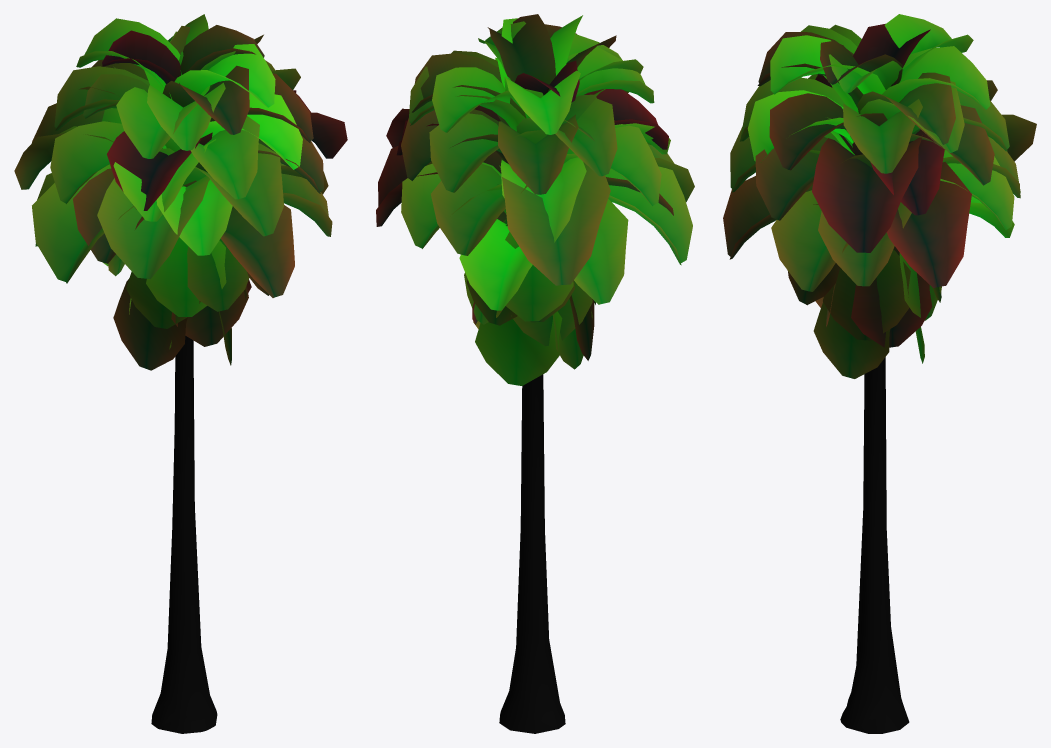
The model's file is palm_ns4_lo.glb.
The picture shows the model from 3 angles, left to right: view 1: azimuth 30°, elevation 25°; view 2: azimuth 150°, elevation 25°; view 3: azimuth 270°, elevation 25°; orthographic projection.
Parts seen in each view (by area): view 1: Tree_1; view 2: Tree_1; view 3: Tree_1.
Boxes of the visible parts, x1,y1,x2,y2 form: Tree_1: [14, 14, 347, 733]; Tree_1: [376, 14, 694, 733]; Tree_1: [723, 14, 1036, 733].
Size of the model in its own units: 699 by 1594 by 660.
